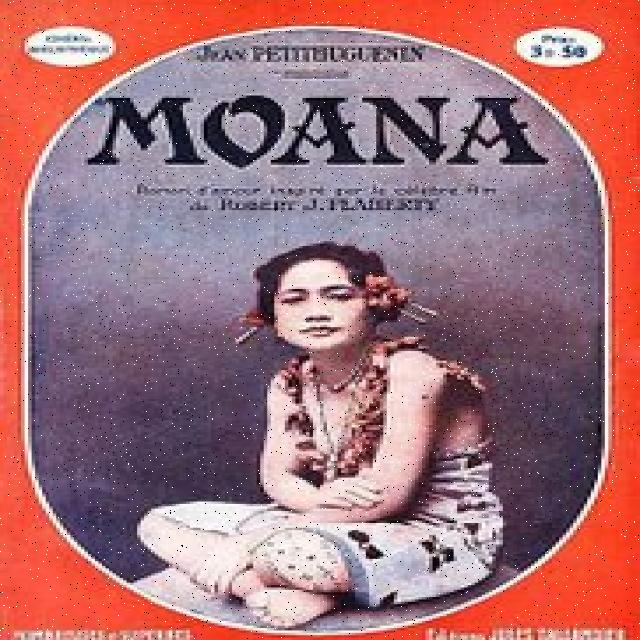movie-judul: (75, 83, 570, 184)
picture: (15, 14, 630, 634)
